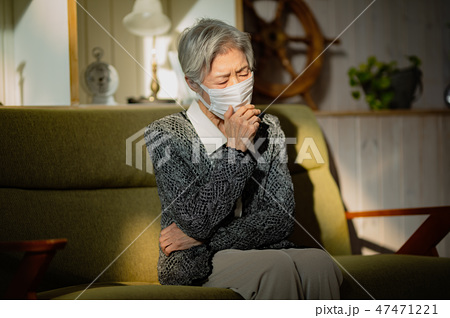mask: (211, 84, 258, 123)
